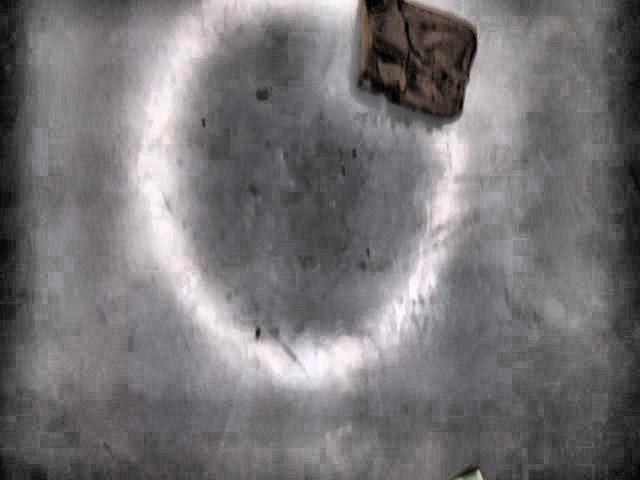Almennt: (353, 0, 479, 120)
